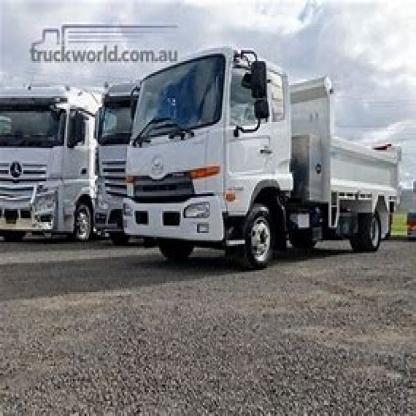dump_truck: (111, 46, 412, 278)
